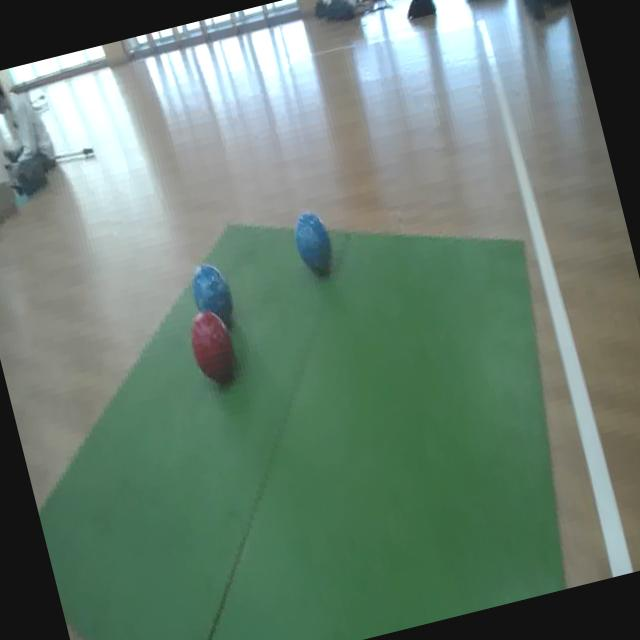blue_ball: (183, 256, 241, 336), (286, 205, 341, 284)
red_ball: (185, 308, 243, 390)
